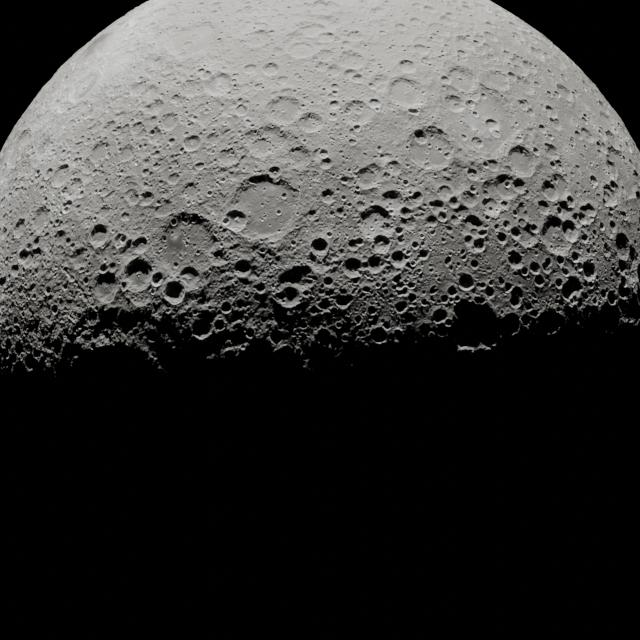crater: (407, 127, 452, 168), (387, 75, 427, 108), (263, 94, 301, 125), (202, 72, 235, 98), (296, 110, 325, 136), (342, 100, 370, 126), (86, 144, 112, 170), (540, 214, 566, 239), (213, 144, 240, 168), (497, 312, 522, 337), (559, 276, 583, 302), (222, 209, 247, 233), (189, 316, 215, 339), (162, 280, 186, 303), (89, 224, 111, 249), (267, 325, 292, 347), (157, 112, 180, 135), (602, 182, 622, 208), (232, 258, 255, 280), (313, 327, 336, 348), (461, 213, 485, 233), (459, 190, 481, 210), (372, 234, 393, 254), (368, 326, 390, 345), (508, 144, 532, 161), (136, 188, 156, 208), (128, 121, 149, 140), (178, 266, 200, 284), (164, 167, 184, 186), (182, 134, 202, 153), (314, 148, 333, 168), (342, 256, 363, 274), (506, 249, 525, 268), (17, 248, 36, 267), (456, 272, 476, 290), (430, 307, 450, 325), (334, 292, 354, 310), (310, 236, 329, 254), (381, 188, 403, 202), (580, 260, 596, 278), (561, 219, 577, 237), (396, 57, 416, 71), (389, 250, 406, 266), (262, 61, 279, 77), (233, 102, 250, 118), (130, 236, 148, 251), (482, 158, 499, 173), (436, 184, 454, 198), (393, 299, 409, 314), (212, 317, 227, 332), (484, 118, 498, 134), (555, 83, 571, 96), (242, 63, 258, 76), (150, 271, 164, 285), (219, 300, 233, 314), (606, 290, 619, 305), (543, 141, 557, 154), (253, 281, 267, 294), (413, 128, 428, 140), (56, 163, 70, 175), (367, 97, 381, 109), (470, 136, 483, 148), (321, 188, 335, 199), (589, 174, 600, 188), (60, 203, 72, 215), (13, 218, 25, 230), (268, 166, 281, 176), (193, 160, 206, 170), (119, 210, 130, 221), (606, 156, 616, 168), (465, 99, 476, 109), (518, 98, 530, 107), (351, 72, 363, 81), (328, 99, 339, 108), (544, 103, 554, 112), (10, 264, 20, 272), (280, 191, 288, 200), (274, 208, 282, 216)
